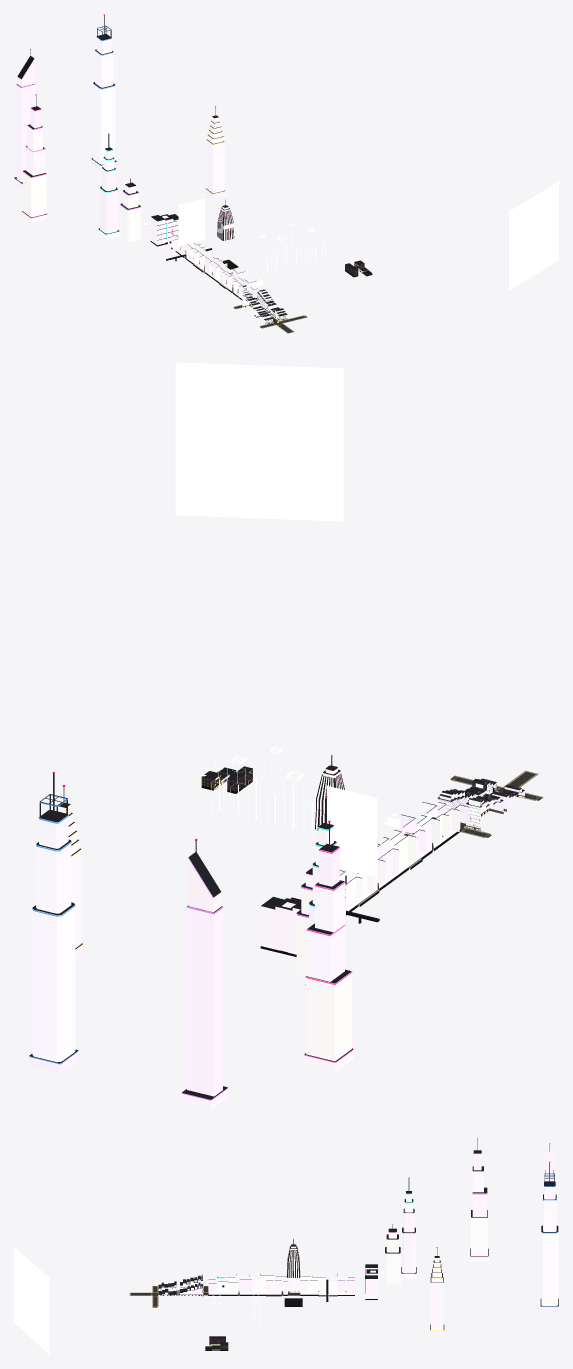
Rendered from world-phone.glb.
3 views of the same model, one above another, from view 1: azimuth 30°, elevation 25°; view 2: azimuth 150°, elevation 25°; view 3: azimuth 270°, elevation 25° (orthographic). The views are drawn at different scales.
Visible parts, largest first — view 1: skyline_facade, moon_disc, far_facade, far_facade_end, holo_figure, skyline_roof, avenue_facade, far_trim, avenue_trim, far_dark, far_glow; view 2: skyline_facade, moon_disc, far_facade, holo_figure, far_facade_end, skyline_roof, avenue_facade, far_trim; view 3: skyline_facade, moon_disc, far_facade, far_facade_end, skyline_roof, far_trim, far_dark, avenue_facade, avenue_roof, far_roof, far_glow.
Part boxes in pixels (<box>): skyline_facade: <box>14,37,225,239</box>; moon_disc: <box>509,181,558,290</box>; far_facade: <box>171,231,257,298</box>; far_facade_end: <box>120,185,178,245</box>; holo_figure: <box>178,198,204,245</box>; skyline_roof: <box>14,34,224,234</box>; avenue_facade: <box>242,290,287,323</box>; far_trim: <box>171,209,257,291</box>; avenue_trim: <box>242,289,287,323</box>; far_dark: <box>150,221,242,300</box>; far_glow: <box>216,207,233,240</box>; skyline_facade: <box>29,804,353,1109</box>; moon_disc: <box>175,362,343,521</box>; far_facade: <box>339,802,468,919</box>; holo_figure: <box>326,786,377,877</box>; far_facade_end: <box>260,873,312,978</box>; skyline_roof: <box>29,802,352,1099</box>; avenue_facade: <box>437,783,524,828</box>; far_trim: <box>315,773,468,897</box>; skyline_facade: <box>401,1152,558,1335</box>; moon_disc: <box>14,1246,49,1354</box>; far_facade: <box>208,1275,354,1294</box>; far_facade_end: <box>365,1232,400,1298</box>; skyline_roof: <box>401,1150,558,1330</box>; far_trim: <box>209,1247,354,1283</box>; far_dark: <box>208,1268,377,1306</box>; avenue_facade: <box>158,1278,202,1294</box>; avenue_roof: <box>158,1275,202,1294</box>; far_roof: <box>290,1228,400,1278</box>; far_glow: <box>287,1246,300,1277</box>.
Size of the model in its own units: 1229 by 575 by 1936.
49 materials, 10 textured.
